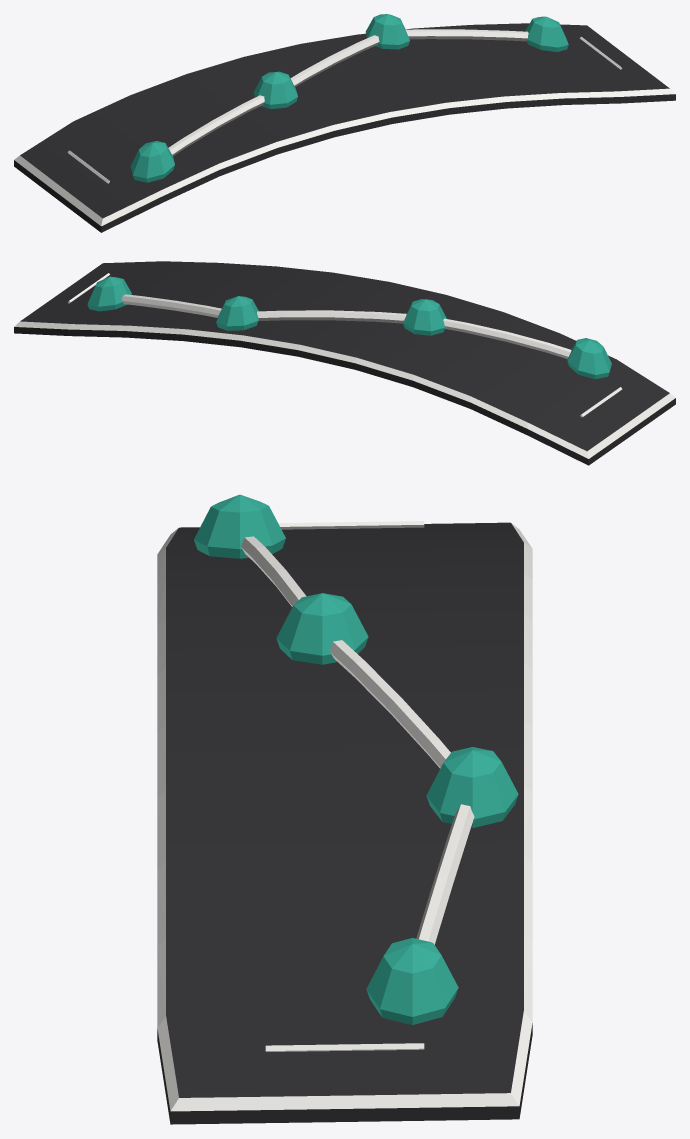
File: tideweave-earned.glb
The picture shows the model from 3 angles, top to bottom: view 1: azimuth 30°, elevation 25°; view 2: azimuth 150°, elevation 25°; view 3: azimuth 270°, elevation 25°; orthographic projection. The views are drawn at different scales.
Visible parts, largest first — view 1: Curved engraved plate.001, Raised D-F-B-A melody ribbon, Earned D | faceted note, Earned F | faceted note, Earned A | faceted note, Earned B | faceted note; view 2: Curved engraved plate.001, Raised D-F-B-A melody ribbon, Earned D | faceted note, Earned F | faceted note, Earned B | faceted note, Earned A | faceted note; view 3: Curved engraved plate.001, Raised D-F-B-A melody ribbon, Earned A | faceted note, Earned B | faceted note, Earned F | faceted note, Earned D | faceted note, Engraved end rule +1.001, Engraved end rule -1.001.
Part boxes in pixels (<box>): Curved engraved plate.001: <box>14,23,675,232</box>; Raised D-F-B-A melody ribbon: <box>168,29,528,155</box>; Earned D | faceted note: <box>130,141,174,182</box>; Earned F | faceted note: <box>253,71,297,108</box>; Earned A | faceted note: <box>525,16,568,51</box>; Earned B | faceted note: <box>365,14,409,49</box>; Curved engraved plate.001: <box>14,261,675,465</box>; Raised D-F-B-A melody ribbon: <box>122,294,571,359</box>; Earned D | faceted note: <box>567,338,611,379</box>; Earned F | faceted note: <box>403,299,446,335</box>; Earned B | faceted note: <box>216,296,258,330</box>; Earned A | faceted note: <box>87,276,131,311</box>; Curved engraved plate.001: <box>157,522,532,1124</box>; Raised D-F-B-A melody ribbon: <box>240,536,474,944</box>; Earned A | faceted note: <box>366,938,458,1024</box>; Earned B | faceted note: <box>426,747,518,828</box>; Earned F | faceted note: <box>276,593,368,664</box>; Earned D | faceted note: <box>194,494,285,558</box>; Engraved end rule +1.001: <box>265,1043,424,1051</box>; Engraved end rule -1.001: <box>278,521,424,529</box>.
Size of the model in its own units: 0.92 by 0.1362 by 0.26.
